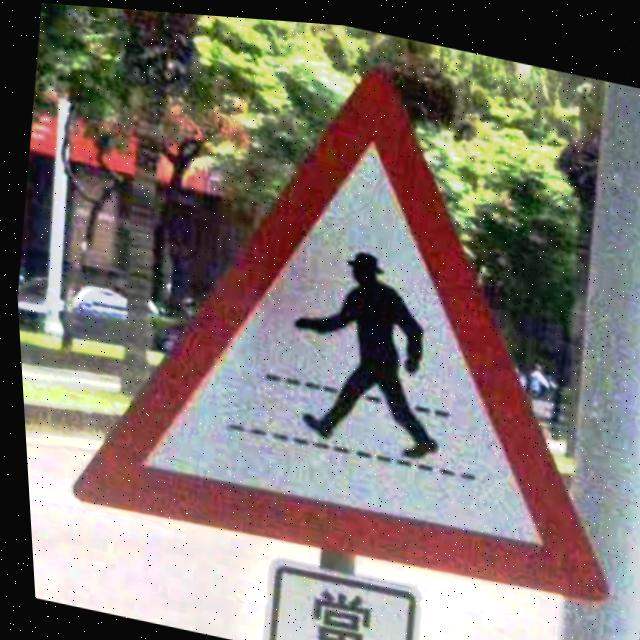pedestriancross: (66, 64, 602, 596)
